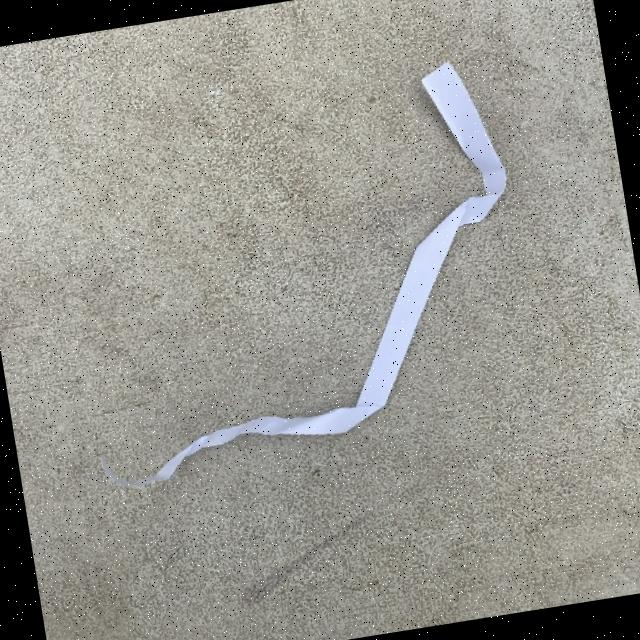paper: (46, 53, 546, 494)
